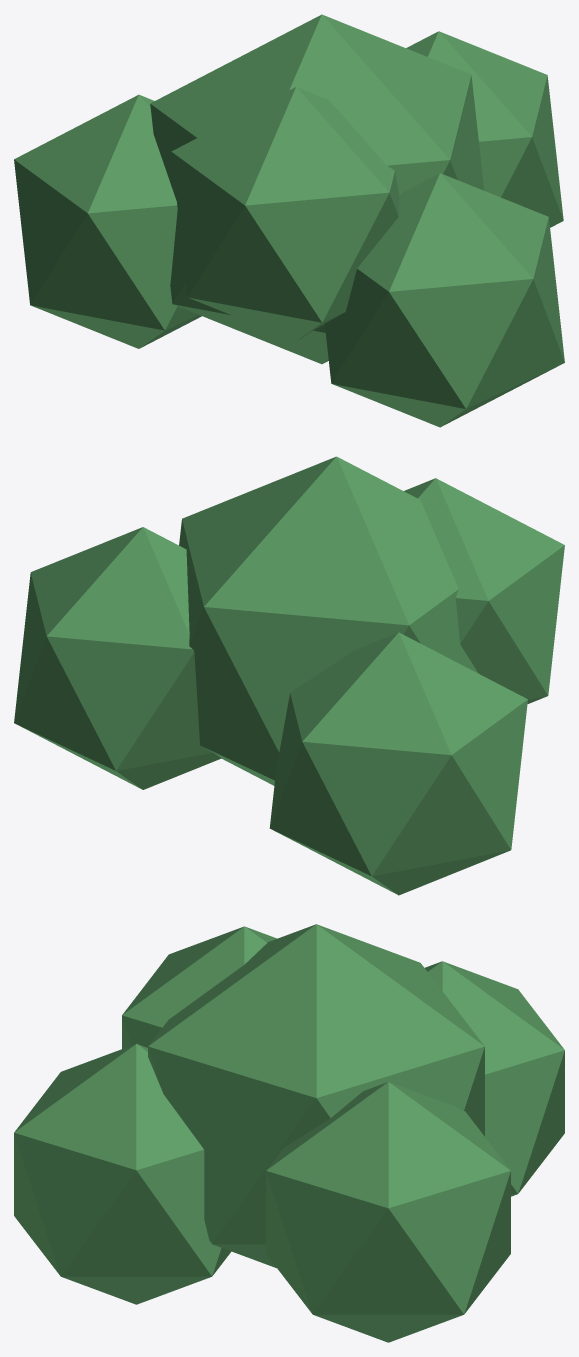
Rendered from bush_dense.glb.
3 renders of one model, top to bottom at view 1: azimuth 30°, elevation 25°; view 2: azimuth 150°, elevation 25°; view 3: azimuth 270°, elevation 25°, orthographic. The views are drawn at different scales.
Parts seen in each view (by area): view 1: Bush3, Bush4, Bush0, Bush2, Bush1; view 2: Bush0, Bush2, Bush1, Bush4; view 3: Bush0, Bush1, Bush3, Bush2, Bush4.
Boxes of the visible parts, <box> form: Bush3: <box>324,173,564,427</box>; Bush4: <box>171,87,399,340</box>; Bush0: <box>150,14,484,364</box>; Bush2: <box>14,94,201,348</box>; Bush1: <box>406,31,563,227</box>; Bush0: <box>179,456,478,785</box>; Bush2: <box>269,632,527,895</box>; Bush1: <box>14,527,221,789</box>; Bush4: <box>404,478,564,703</box>; Bush0: <box>148,924,484,1268</box>; Bush1: <box>266,1082,510,1342</box>; Bush3: <box>14,1044,231,1304</box>; Bush2: <box>425,961,564,1196</box>; Bush4: <box>122,926,276,1048</box>.
Size of the model in its own units: 1.62 by 1.12 by 1.53.
